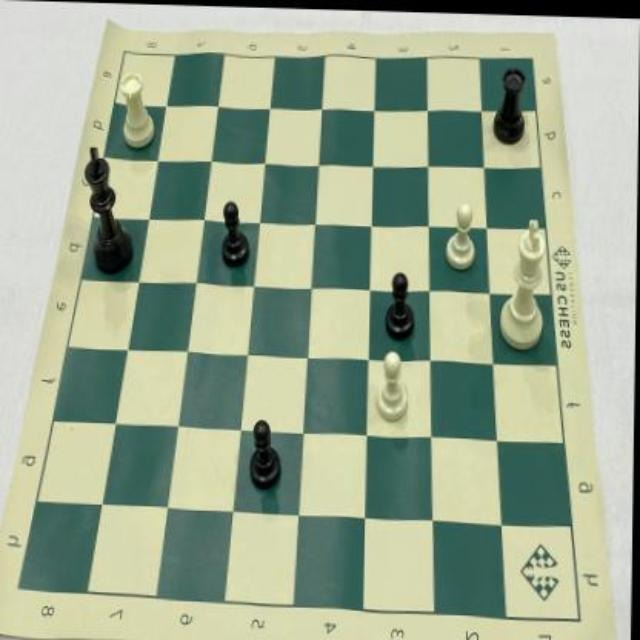black-king: (77, 140, 140, 286)
black-pawn: (244, 406, 291, 499), (216, 191, 260, 274), (380, 261, 424, 339)
black-rook: (489, 56, 535, 152)
white-king: (493, 207, 557, 355)
white-pawn: (370, 344, 416, 427), (441, 195, 483, 276)
white-rook: (115, 64, 161, 159)
